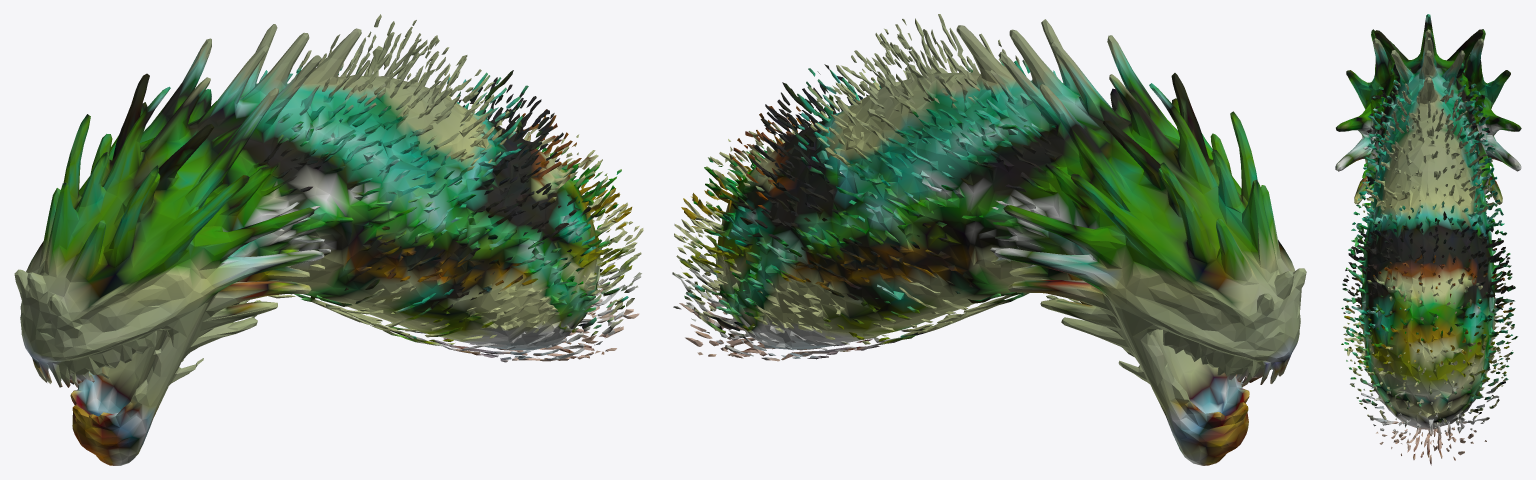
Rendered from homunculus.glb.
The picture shows the model from 3 angles, left to right: view 1: azimuth 30°, elevation 25°; view 2: azimuth 150°, elevation 25°; view 3: azimuth 270°, elevation 25°; orthographic projection. The views are drawn at different scales.
Parts seen in each view (by area): view 1: world; view 2: world; view 3: world.
Boxes of the visible parts, x1,y1,x2,y2 form: world: [14, 14, 643, 465]; world: [672, 14, 1306, 465]; world: [1335, 14, 1521, 465].
Bounding box in the file's own units: 1.64 × 1 × 0.5551.
